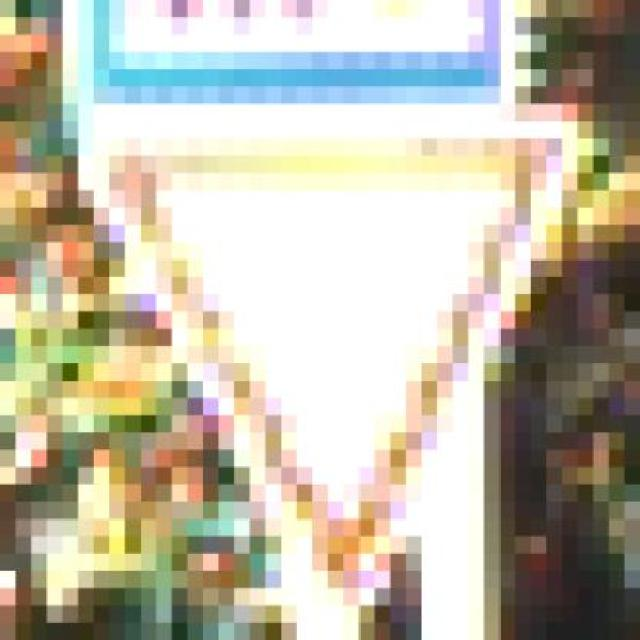Give Way: (62, 111, 608, 632)
